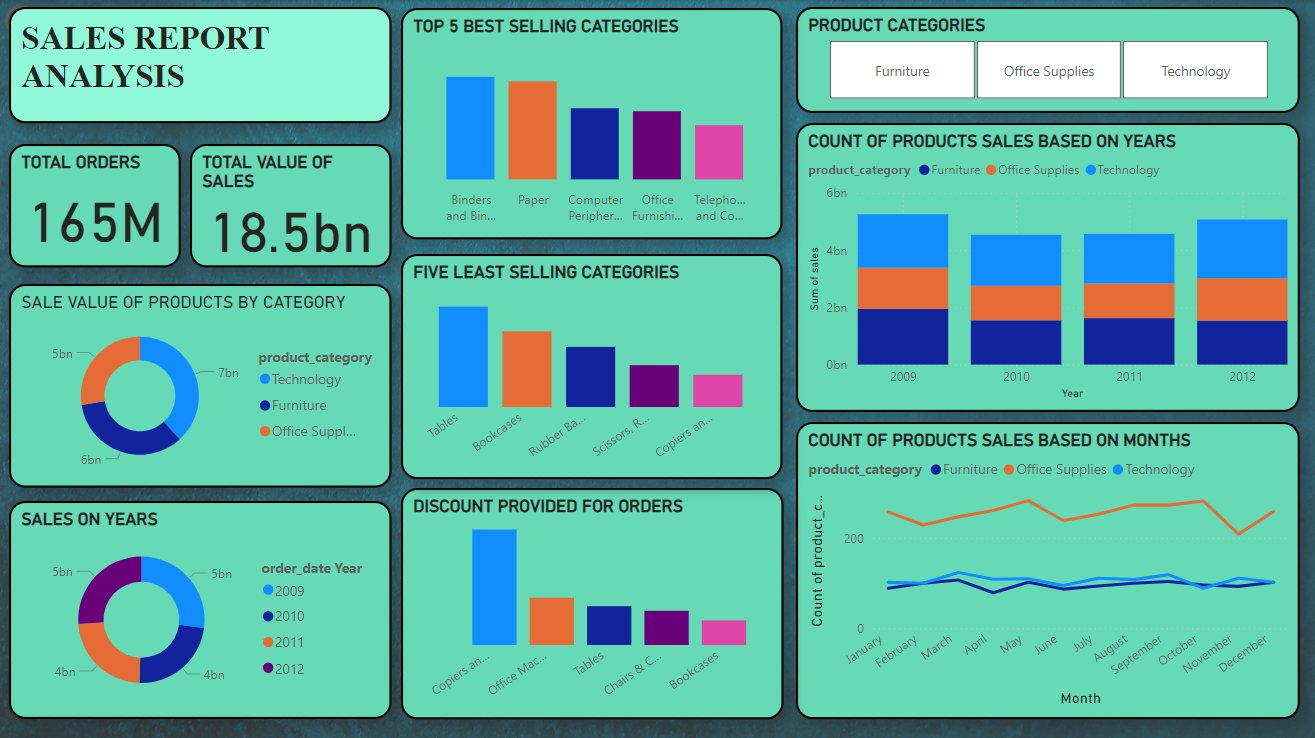

What the dashboard file says about the page in this screenshot:
{"tool":"powerbi","page":{"name":"Page 1","canvas":[1280,720],"ordinal":0},"visuals":[{"type":"card","title":"TOTAL ORDERS","fields":{"Values":["Sum(Table1.order_id)"]},"box":[8.8,140.1,167.3,119.6],"z":0},{"type":"card","title":"TOTAL VALUE OF SALES","fields":{"Values":["Sum(Table1.Sale_value)"]},"box":[184.8,140.1,195.5,119.6],"z":1000},{"type":"slicer","title":"PRODUCT CATEGORIES","fields":{"Values":["Table1.product_category"]},"box":[774.2,6.8,490.2,103.1],"z":2000},{"type":"donutChart","title":"SALE VALUE OF PRODUCTS BY CATEGORY","fields":{"Category":["Table1.product_category"],"Y":["Sum(Table1.Sale_value)"]},"box":[8.8,276.2,371.6,198.4],"z":3000},{"type":"donutChart","title":"SALES ON YEARS","fields":{"Category":["Table1.order_date.Variation.Date Hierarchy.Year","Table1.order_date.Variation.Date Hierarchy.Quarter","Table1.order_date.Variation.Date Hierarchy.Month","Table1.order_date.Variation.Date Hierarchy.Day"],"Y":["Sum(Table1.Sale_value)"]},"box":[8.8,487.3,371.6,212],"z":4000},{"type":"columnChart","title":"COUNT OF PRODUCTS SALES BASED ON YEARS","fields":{"Category":["Table1.order_date.Variation.Date Hierarchy.Year"],"Series":["Table1.product_category"],"Y":["Sum(Table1.sales)"]},"box":[773.9,119.4,490.2,281],"z":5000},{"type":"columnChart","title":"ORDER STATUS OF ALL ORDERS","fields":{"Y":["Sum(Table1.order_id)"],"Category":["Table1.order _ status"]},"box":[849.3,439.9,316,203.8],"z":6000},{"type":"lineChart","title":"COUNT OF PRODUCTS SALES BASED ON MONTHS","fields":{"Category":["Table1.order_date.Variation.Date Hierarchy.Month","Table1.order_date.Variation.Date Hierarchy.Day"],"Series":["Table1.product_category"],"Y":["CountNonNull(Table1.product_category)"]},"box":[773.9,410.3,490.2,289.1],"z":7000},{"type":"actionButton","box":[0,0,100,40],"z":8000},{"type":"columnChart","title":"DISCOUNT PROVIDED FOR ORDERS ","fields":{"Y":["Avg(Table1.discount_value)"],"Category":["Table1.product_sub_category           "]},"box":[390,474.7,371.6,224.7],"z":9000},{"type":"textbox","box":[8.8,6.8,371.6,112.8],"z":10000},{"type":"columnChart","title":"TOP 5 BEST SELLING CATEGORIES","fields":{"Y":["Sum(Table1.order_id)"],"Category":["Table1.product_sub_category           "]},"box":[390,7.8,370.6,224.7],"z":11000},{"type":"columnChart","title":"FIVE LEAST SELLING CATEGORIES","fields":{"Y":["Sum(Table1.order_id)"],"Category":["Table1.product_sub_category           "]},"box":[390,247.1,370.6,218.8],"z":12000}]}

Visuals, with their boxes in screenshot pixels (x1, y1, x2, y2), scaled from the page's 1280x720 canvas onto the 1315x738 screenshot:
"TOTAL ORDERS" card: <bbox>9, 144, 181, 266</bbox>
"TOTAL VALUE OF SALES" card: <bbox>190, 144, 391, 266</bbox>
"PRODUCT CATEGORIES" slicer: <bbox>795, 7, 1299, 113</bbox>
"SALE VALUE OF PRODUCTS BY CATEGORY" donutChart: <bbox>9, 283, 391, 486</bbox>
"SALES ON YEARS" donutChart: <bbox>9, 499, 391, 717</bbox>
"COUNT OF PRODUCTS SALES BASED ON YEARS" columnChart: <bbox>795, 122, 1299, 410</bbox>
"ORDER STATUS OF ALL ORDERS" columnChart: <bbox>873, 451, 1197, 660</bbox>
"COUNT OF PRODUCTS SALES BASED ON MONTHS" lineChart: <bbox>795, 421, 1299, 717</bbox>
actionButton: <bbox>0, 0, 103, 41</bbox>
"DISCOUNT PROVIDED FOR ORDERS " columnChart: <bbox>401, 487, 782, 717</bbox>
textbox: <bbox>9, 7, 391, 123</bbox>
"TOP 5 BEST SELLING CATEGORIES" columnChart: <bbox>401, 8, 781, 238</bbox>
"FIVE LEAST SELLING CATEGORIES" columnChart: <bbox>401, 253, 781, 478</bbox>
